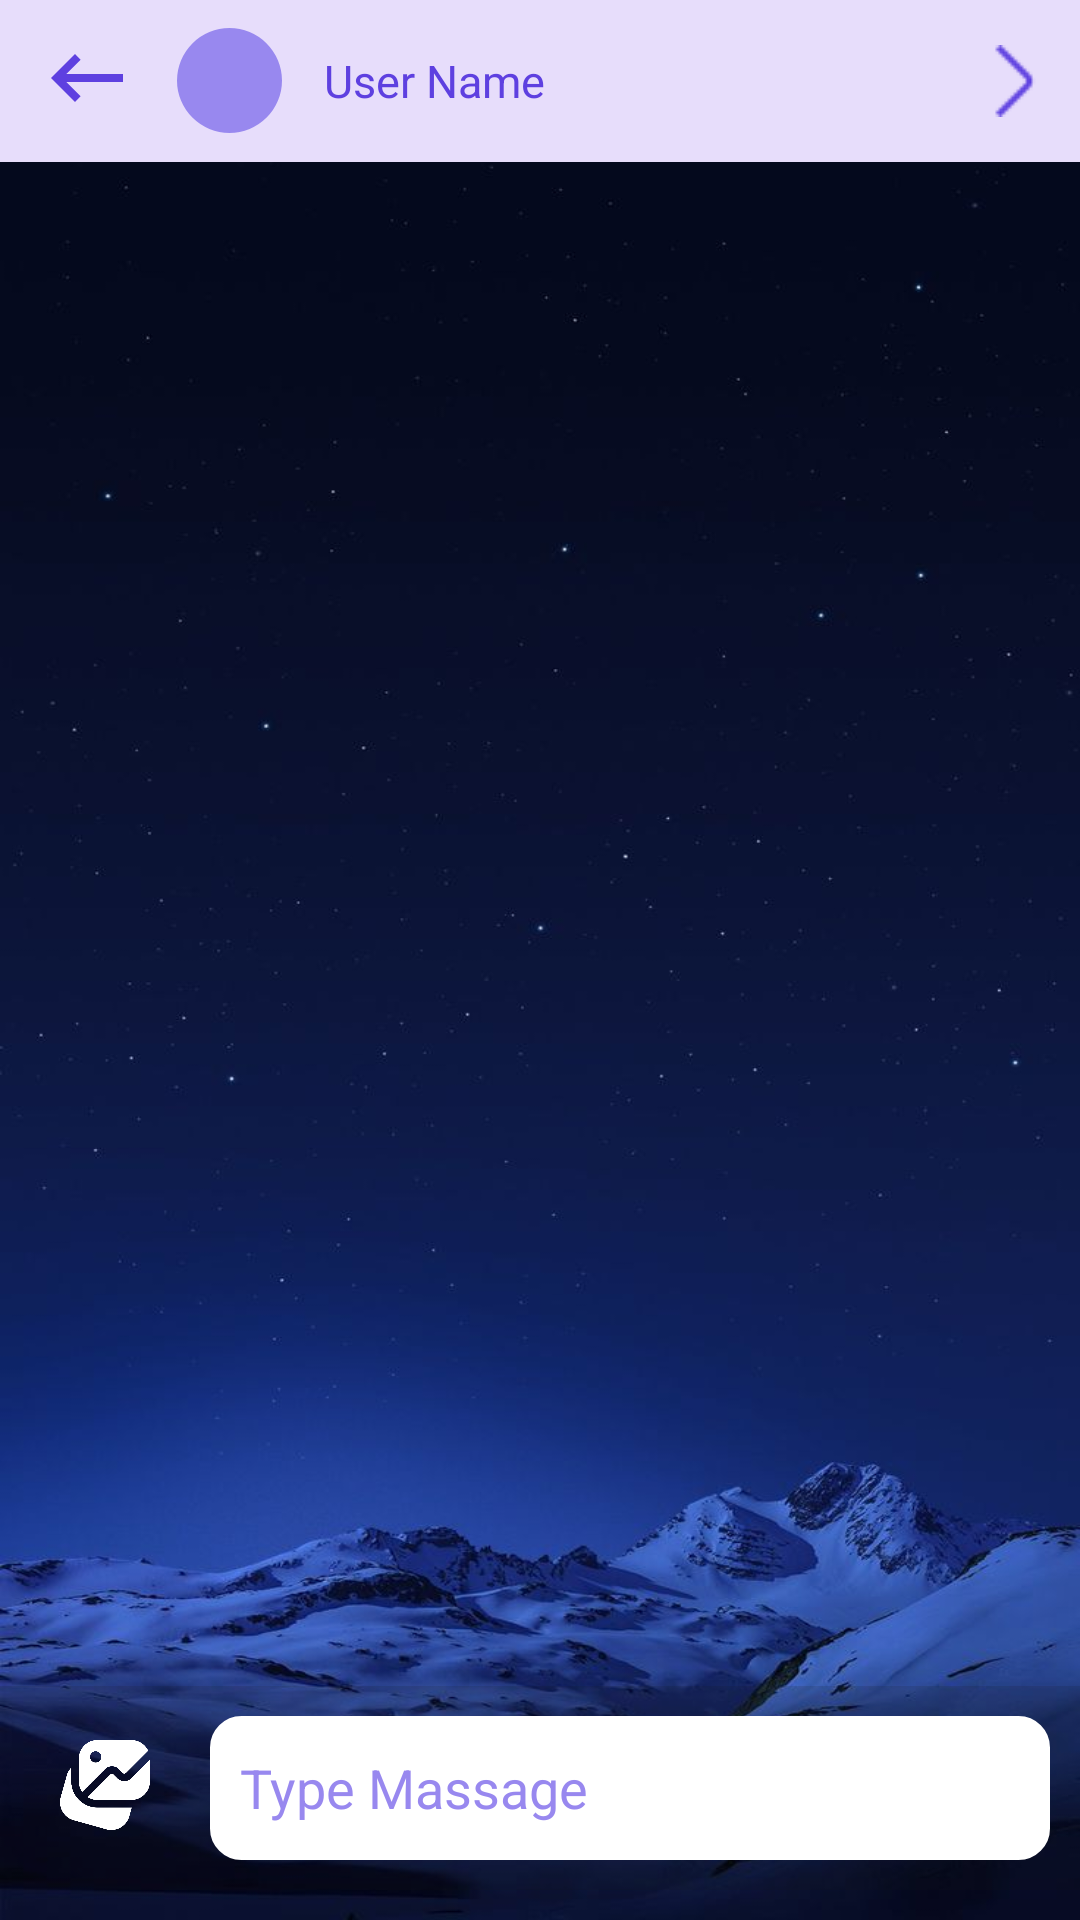

Icon click points for this 1080px x 1920px phone screenshot, format point (x, y):
back: point (87, 78)
